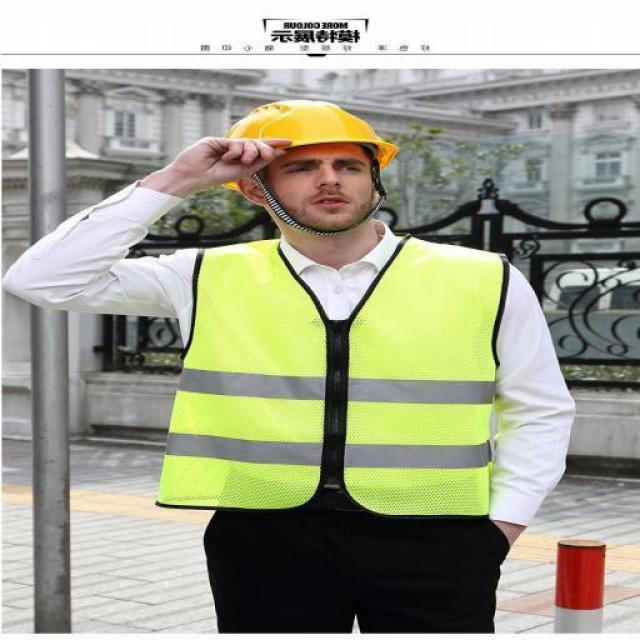vest: (184, 244, 501, 522)
